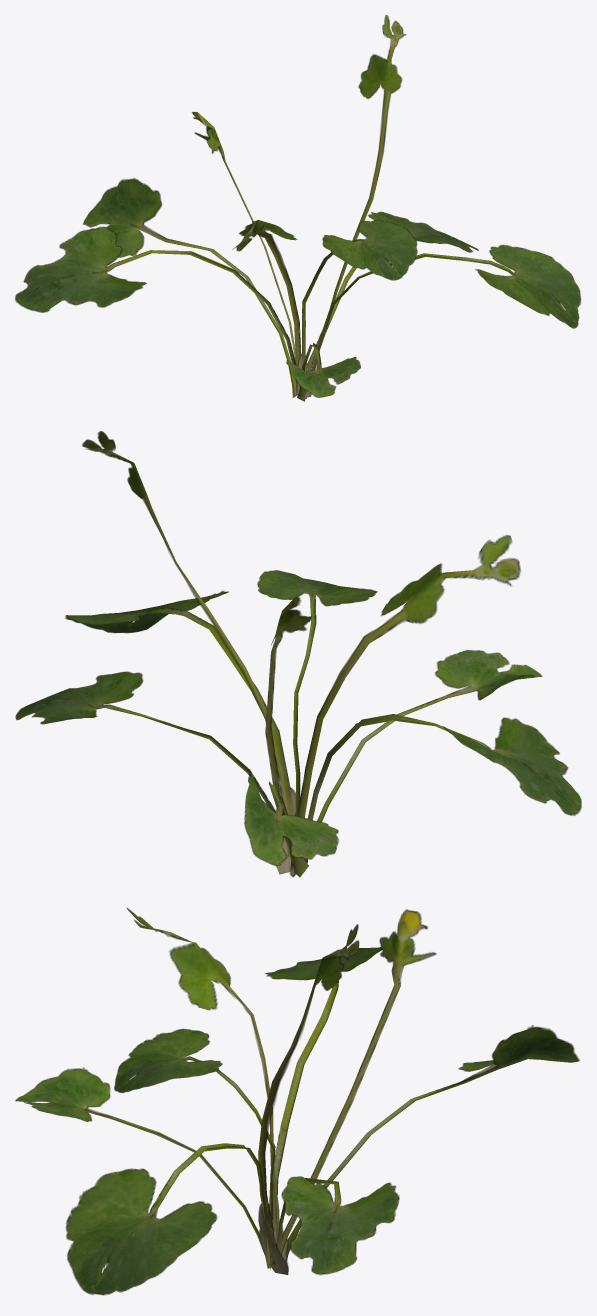
File: celandine.glb
3 views of the same model, one above another, from view 1: azimuth 30°, elevation 25°; view 2: azimuth 150°, elevation 25°; view 3: azimuth 270°, elevation 25° (orthographic). The views are drawn at different scales.
Parts seen in each view (by area): view 1: celandine_01_a_LOD0; view 2: celandine_01_a_LOD0; view 3: celandine_01_a_LOD0.
Boxes of the visible parts, box(x1,y1,x2,y2) form: celandine_01_a_LOD0: box(15, 15, 581, 401); celandine_01_a_LOD0: box(15, 431, 581, 877); celandine_01_a_LOD0: box(15, 908, 579, 1295).
Bounding box in the file's own units: 0.2757 × 0.1859 × 0.2282.
Materials: 1 (1 with a texture image).
